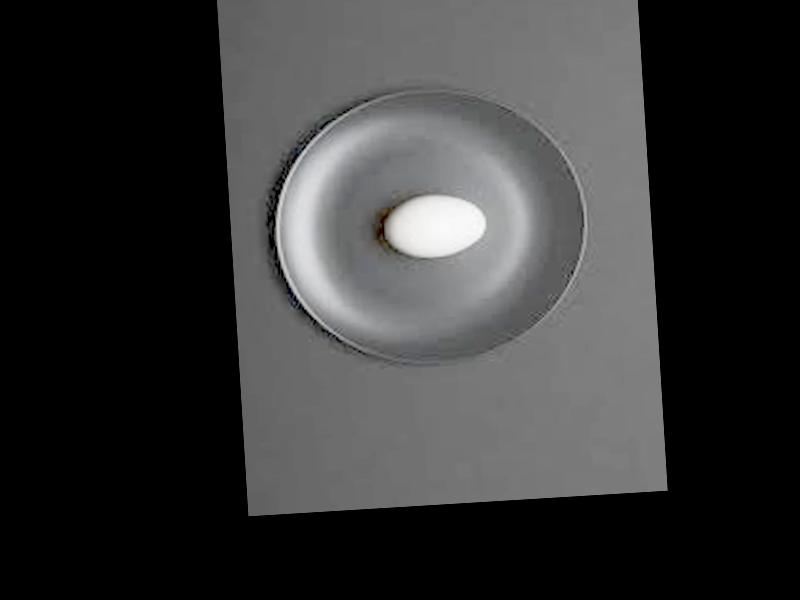Eggs: (384, 191, 487, 260)
